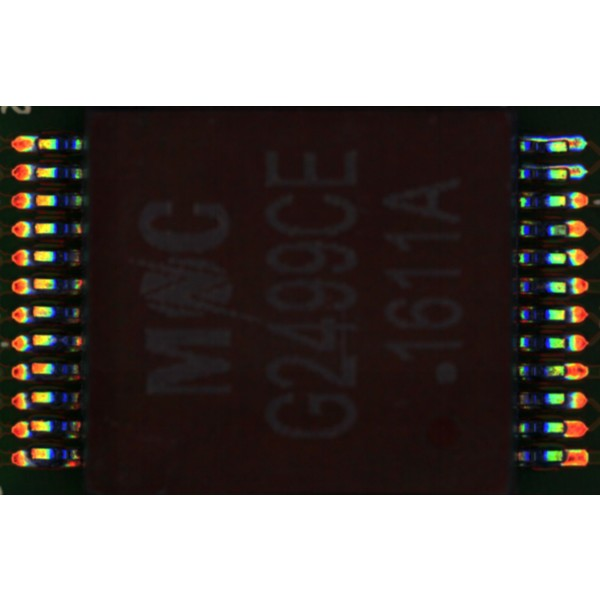Bad_podu: (559, 366, 574, 376), (557, 451, 573, 460), (559, 424, 571, 433)
Bad_qiaojiao: (526, 136, 569, 141), (527, 165, 568, 170)
